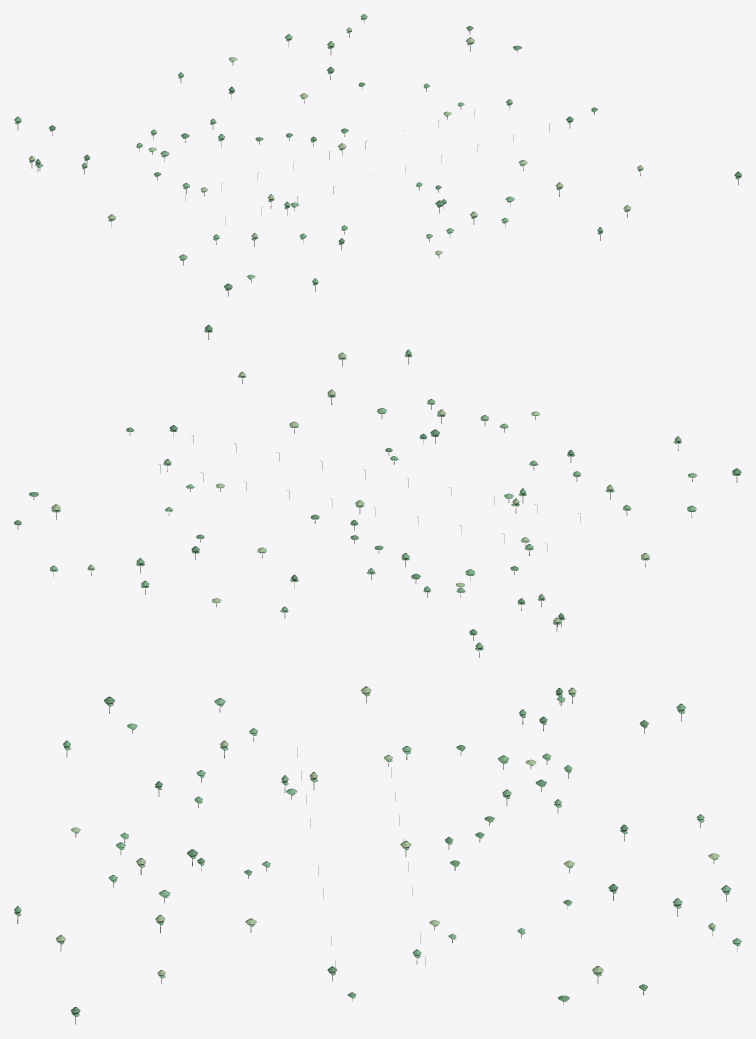
3 views of the same model, one above another, from view 1: azimuth 30°, elevation 25°; view 2: azimuth 150°, elevation 25°; view 3: azimuth 270°, elevation 25° (orthographic). The views are drawn at different scales.
Parts seen in each view (by area): view 1: Pallabi neighborhood furniture (approximate); view 2: Pallabi neighborhood furniture (approximate); view 3: Pallabi neighborhood furniture (approximate).
Boxes of the visible parts, <box> form: Pallabi neighborhood furniture (approximate): <box>14,14,741,296</box>; Pallabi neighborhood furniture (approximate): <box>14,325,741,657</box>; Pallabi neighborhood furniture (approximate): <box>14,686,741,1024</box>.
Size of the model in its own units: 482 by 12.24 by 455.
